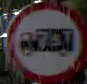Heavy Vehicles: (8, 2, 84, 83)
